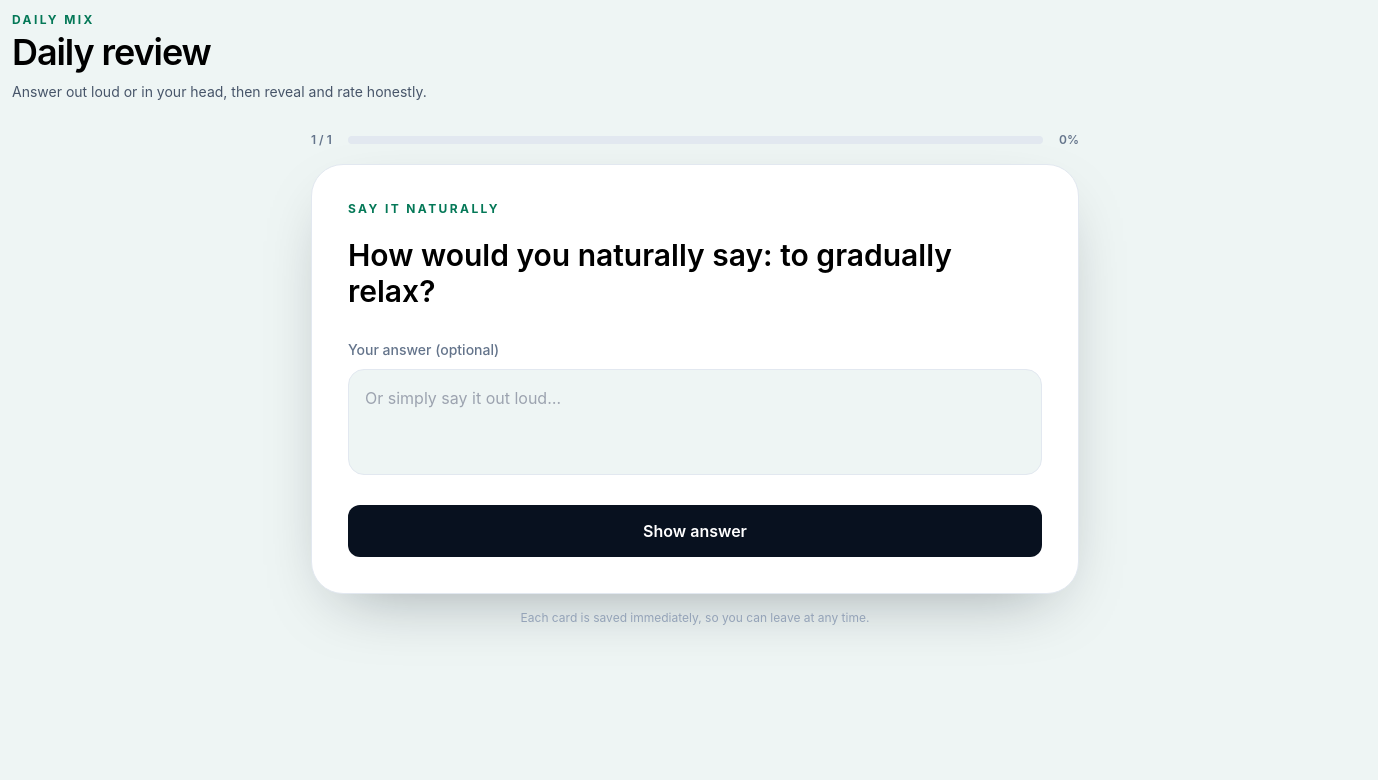
Test: ReviewPage › reveals an answer, saves the rating, and shows the recap
expect the heading "How would you naturally say: to gradually relax?" is shown: met, box [348, 237, 1042, 309]
Type "wind down" into the text box with placeholder "Or simply say it out loud…" at (695, 422), box [348, 369, 1042, 475]
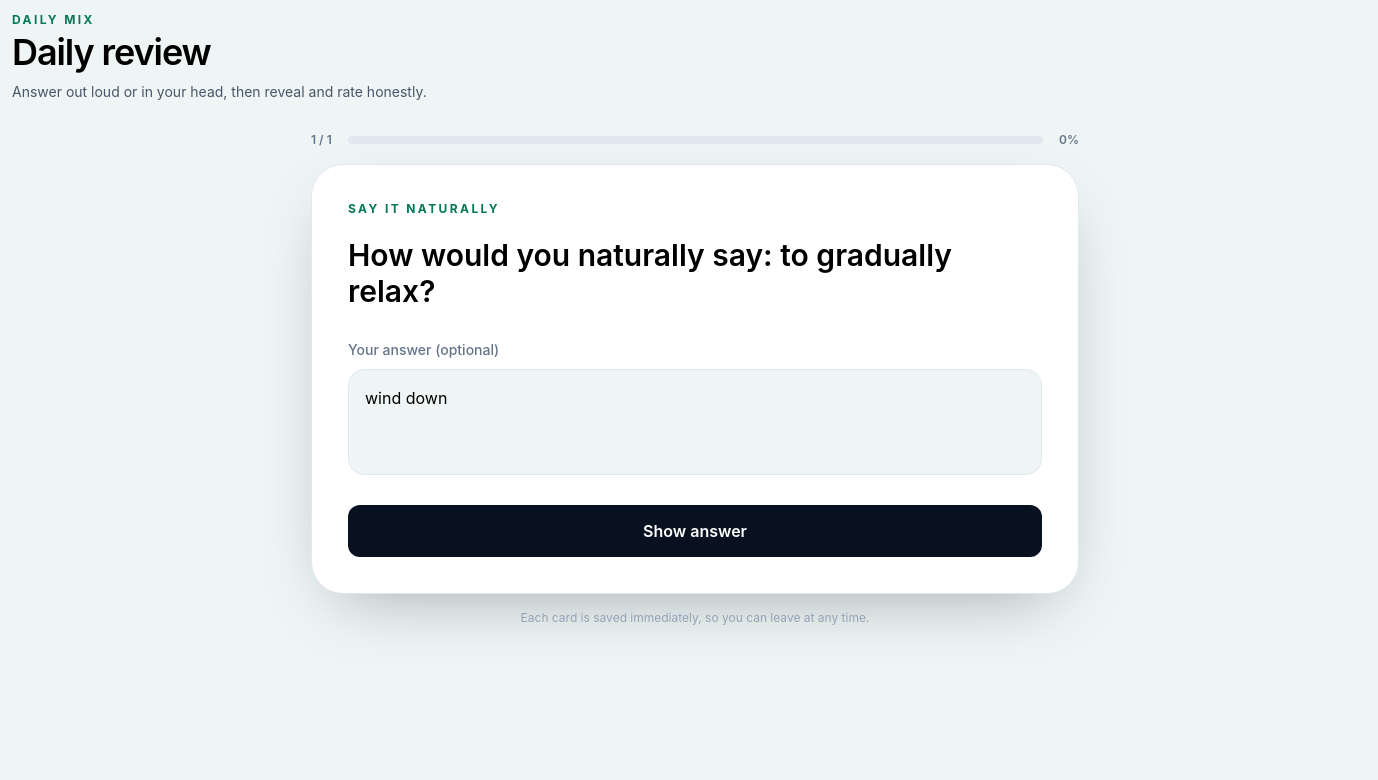
Click the button "Show answer" at (695, 531), box [348, 505, 1042, 557]
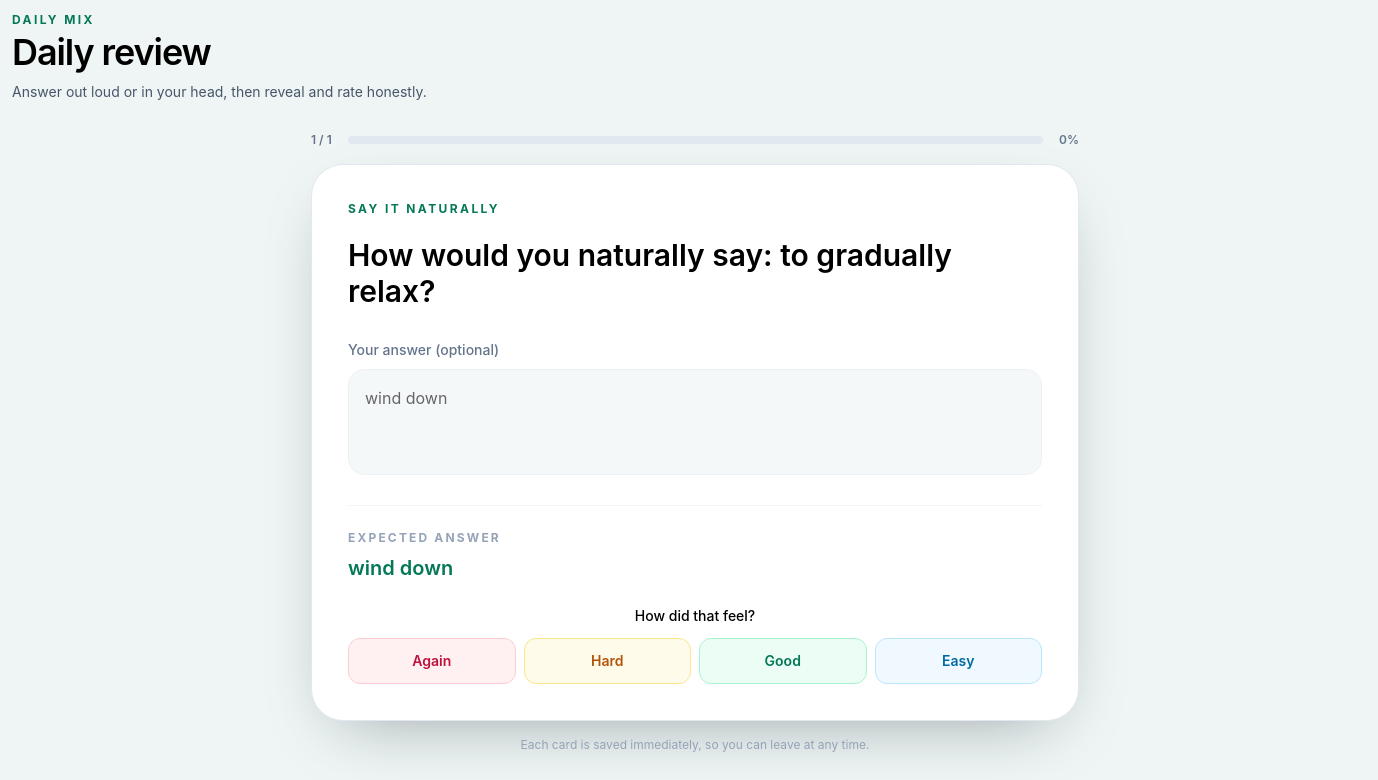
Click the button "Good" at (783, 661), box [699, 638, 866, 684]
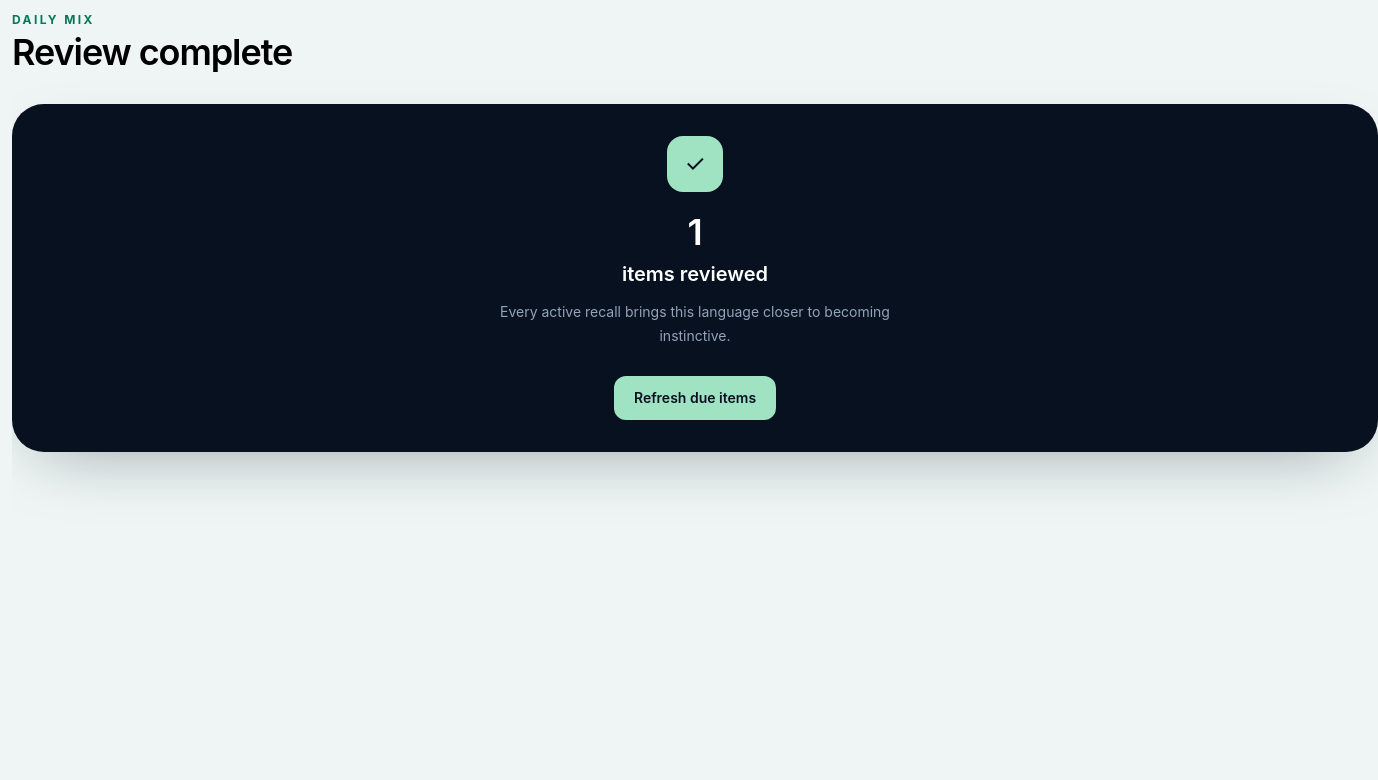
expect the heading "Review complete" is shown: met, box [12, 32, 292, 72]
expect the heading "items reviewed" is shown: met, box [622, 262, 768, 286]
